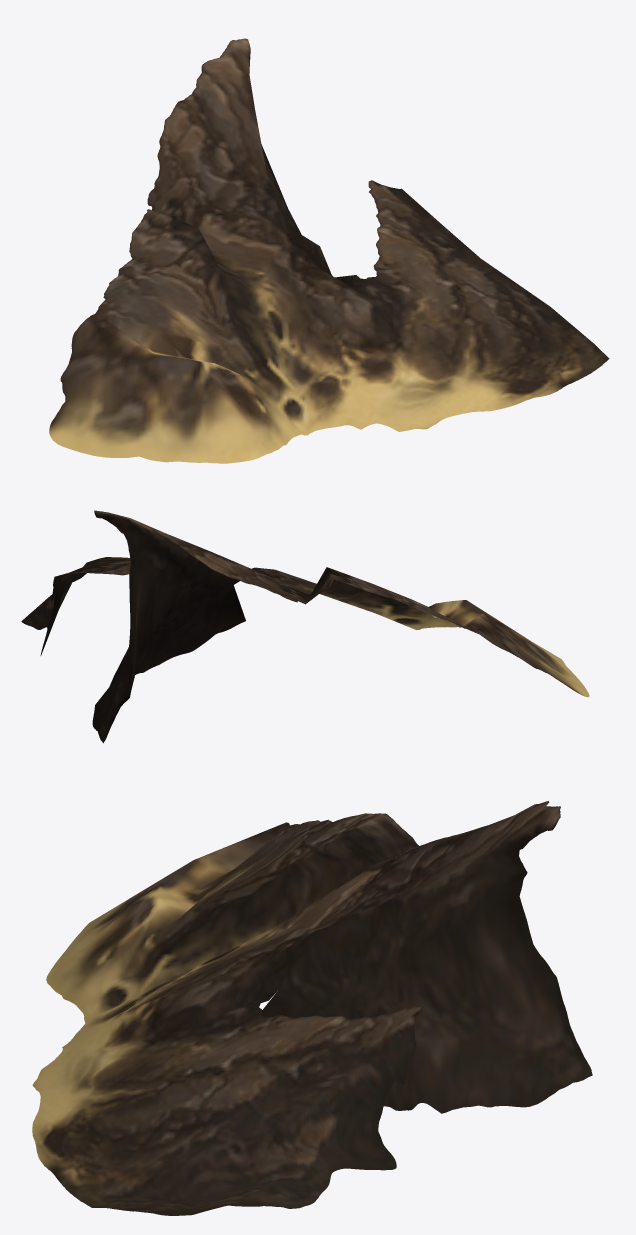
The model's file is rock_3_08.FBX.
3 renders of one model, top to bottom at view 1: azimuth 30°, elevation 25°; view 2: azimuth 150°, elevation 25°; view 3: azimuth 270°, elevation 25°, orthographic. The views are drawn at different scales.
Visible parts, largest first — view 1: rock_3_08; view 2: rock_3_08; view 3: rock_3_08.
Boxes of the visible parts, box(x1,y1,x2,y2) form: rock_3_08: box(49, 38, 609, 463); rock_3_08: box(21, 510, 589, 743); rock_3_08: box(32, 801, 592, 1215).
Bounding box in the file's own units: 392 × 164 × 293.
